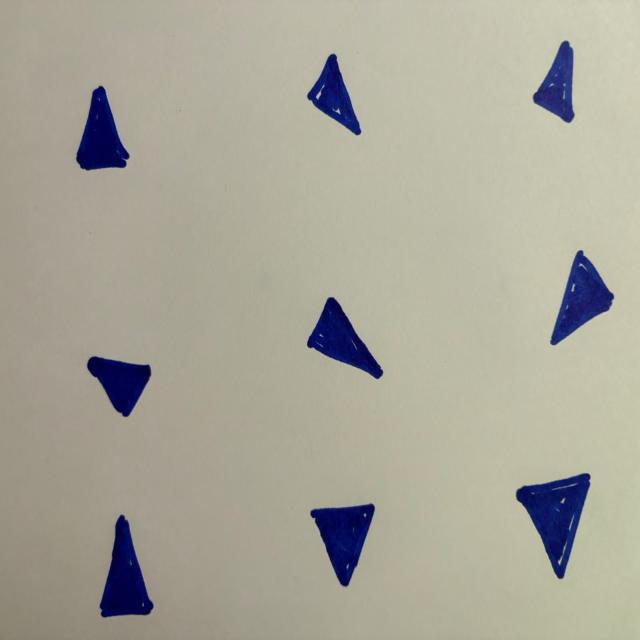Triangle: (516, 473, 590, 578), (307, 298, 383, 379), (550, 251, 613, 344), (100, 515, 153, 617), (310, 503, 374, 586), (77, 86, 129, 170), (308, 54, 361, 134), (87, 355, 151, 417), (533, 41, 574, 122)
